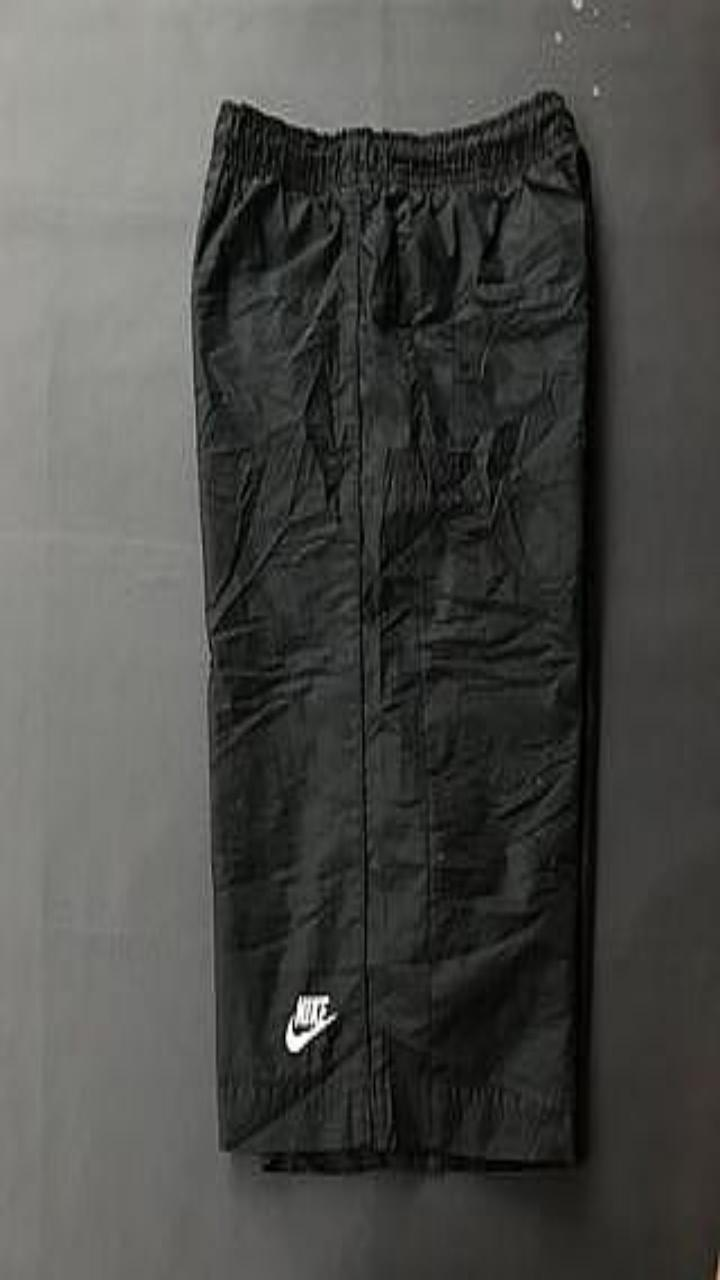Shorts: (191, 90, 593, 1169)
